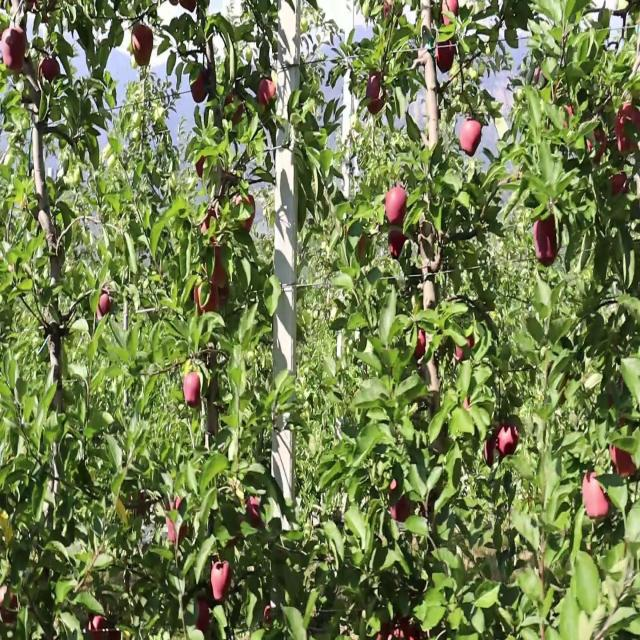apple: (164, 497, 189, 548), (584, 476, 611, 521), (4, 28, 29, 76), (616, 106, 640, 156), (536, 213, 560, 263), (132, 21, 156, 68), (116, 490, 148, 524), (388, 483, 412, 526), (236, 191, 256, 235), (368, 71, 387, 117), (212, 561, 232, 604), (460, 120, 483, 156), (192, 71, 215, 107), (612, 447, 638, 478), (388, 184, 408, 224), (88, 611, 116, 639), (588, 127, 608, 165), (196, 284, 218, 318), (184, 369, 203, 407), (212, 248, 229, 290), (0, 590, 19, 626), (200, 206, 219, 242), (224, 92, 244, 126), (256, 78, 278, 108), (388, 227, 407, 260), (436, 42, 456, 73), (500, 426, 520, 455), (40, 56, 60, 84), (440, 0, 460, 28), (196, 597, 211, 633), (612, 170, 629, 199), (248, 497, 263, 528), (96, 291, 112, 320), (484, 440, 500, 468), (456, 341, 475, 363), (416, 327, 428, 361), (356, 234, 367, 261), (220, 284, 232, 308), (196, 156, 207, 180), (180, 0, 197, 14), (264, 604, 273, 626), (464, 398, 471, 412)
